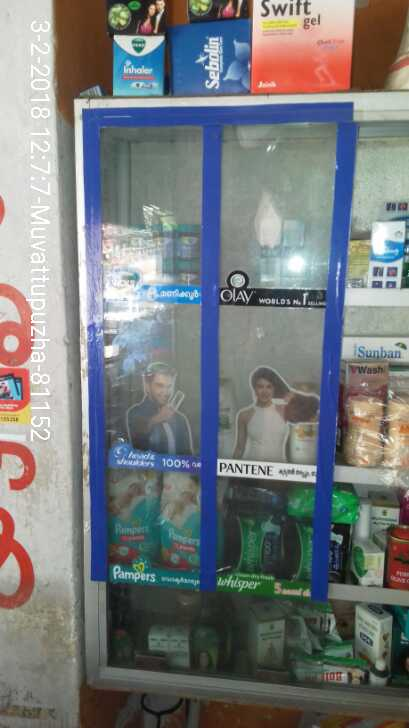vicks: (155, 216, 209, 294)
